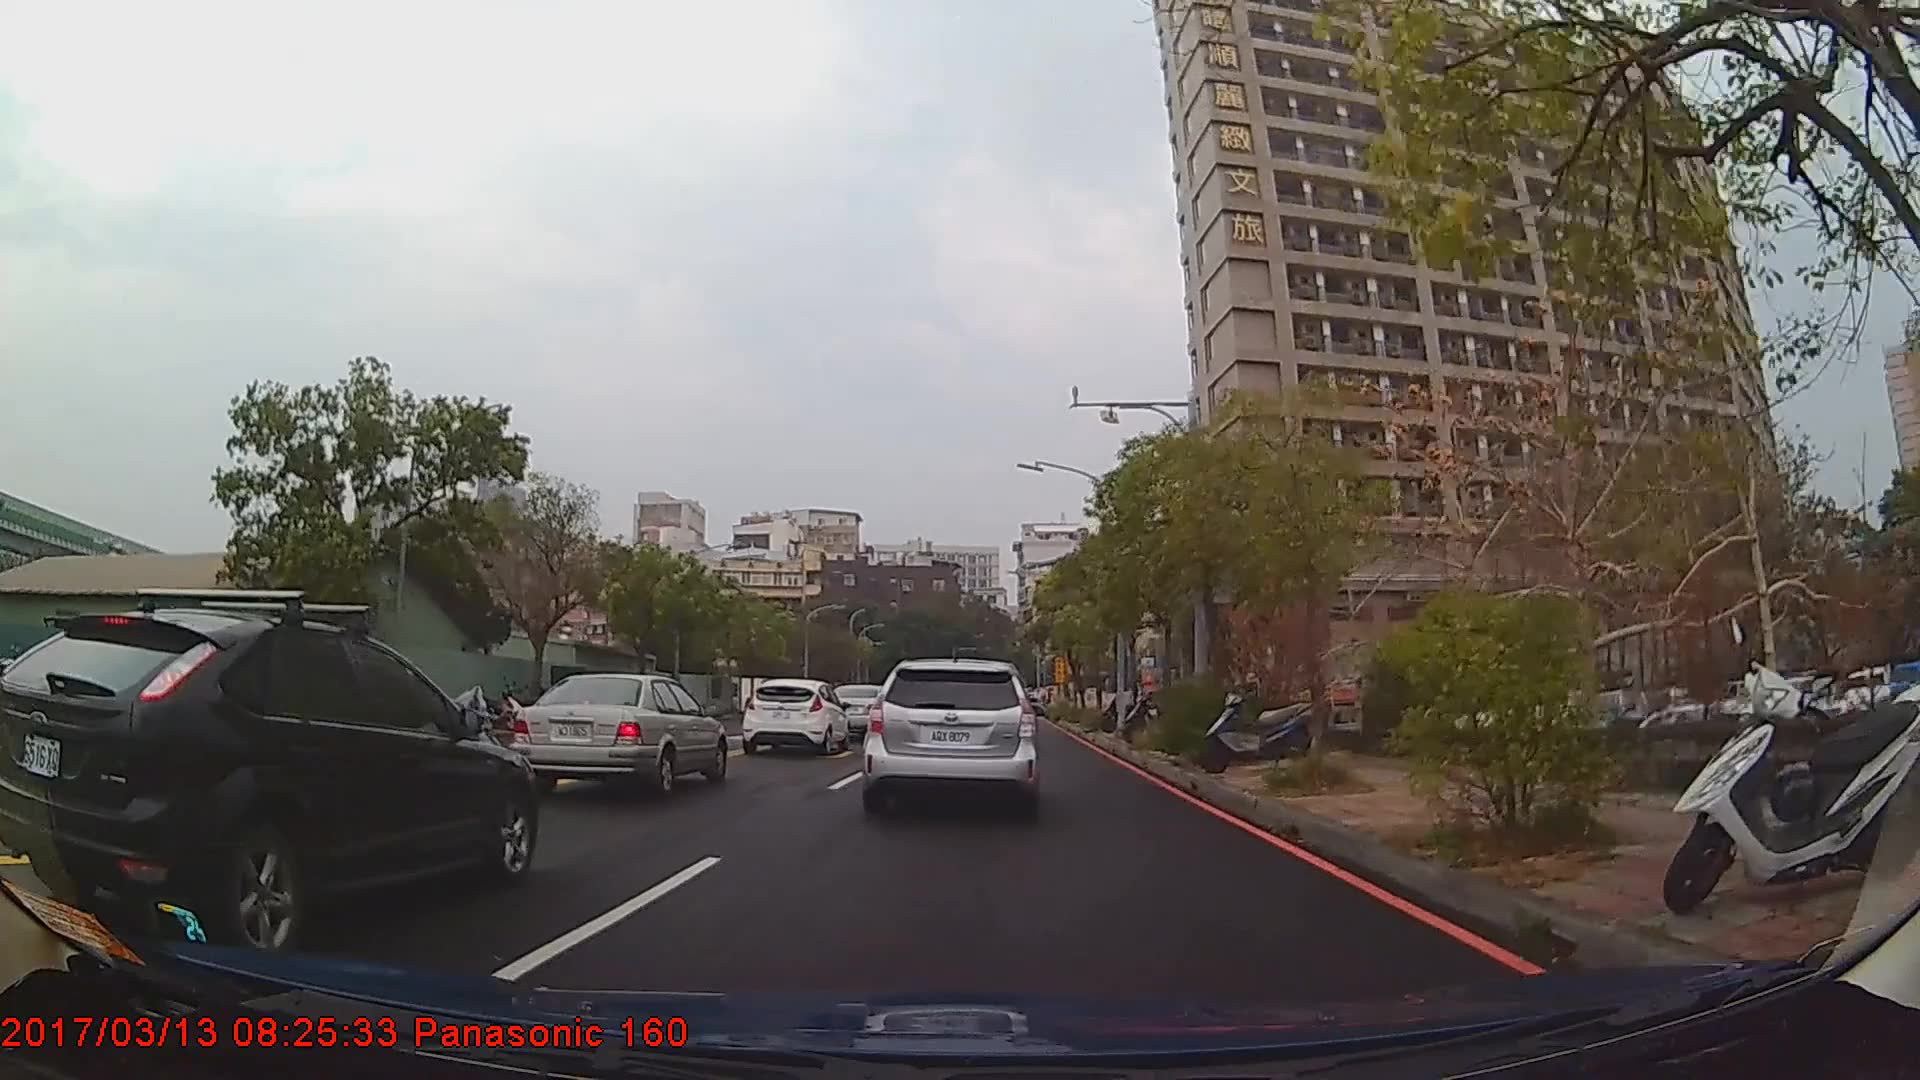vehicle: (0, 605, 535, 957), (861, 658, 1039, 816), (510, 673, 727, 798), (738, 679, 848, 756)
